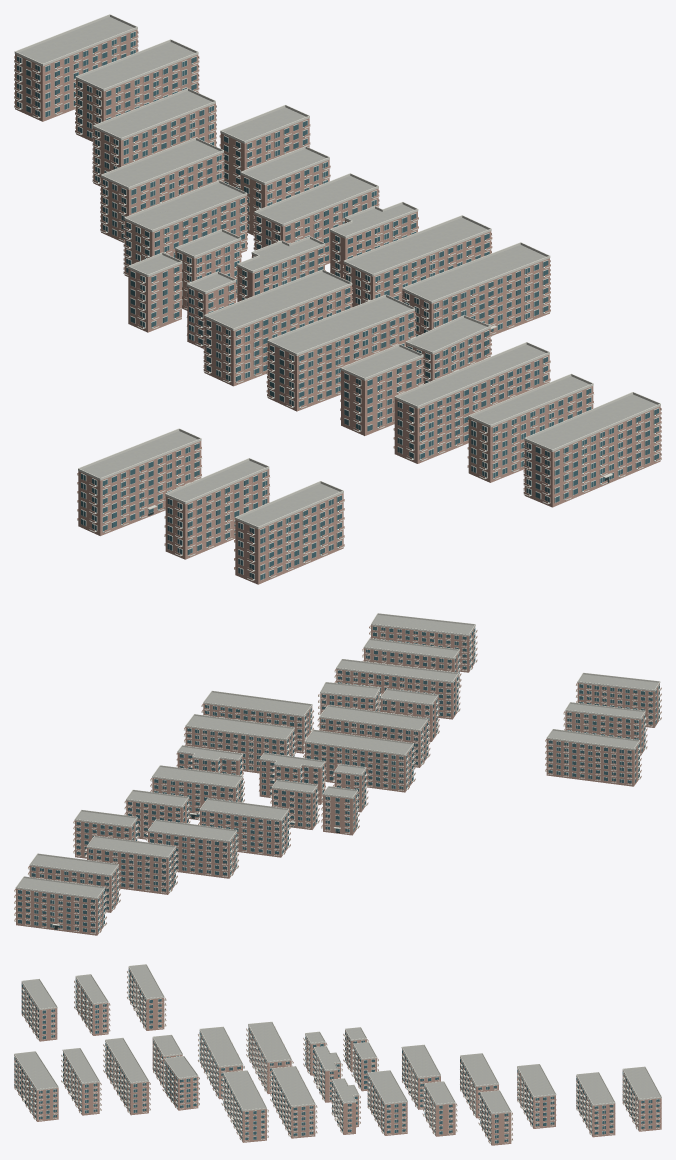
Rendered from chunk-n1-p0.glb.
3 views of the same model, one above another, from view 1: azimuth 30°, elevation 25°; view 2: azimuth 150°, elevation 25°; view 3: azimuth 270°, elevation 25° (orthographic). The views are drawn at different scales.
Parts seen in each view (by area): view 1: chunk-n1-p0; view 2: chunk-n1-p0; view 3: chunk-n1-p0.
Boxes of the visible parts, x1,y1,x2,y2 form: chunk-n1-p0: (14, 14, 661, 584); chunk-n1-p0: (14, 613, 661, 935); chunk-n1-p0: (14, 964, 661, 1145).
Size of the model in its own units: 214 by 27.64 by 378.
Materials: 5 (1 with a texture image).
